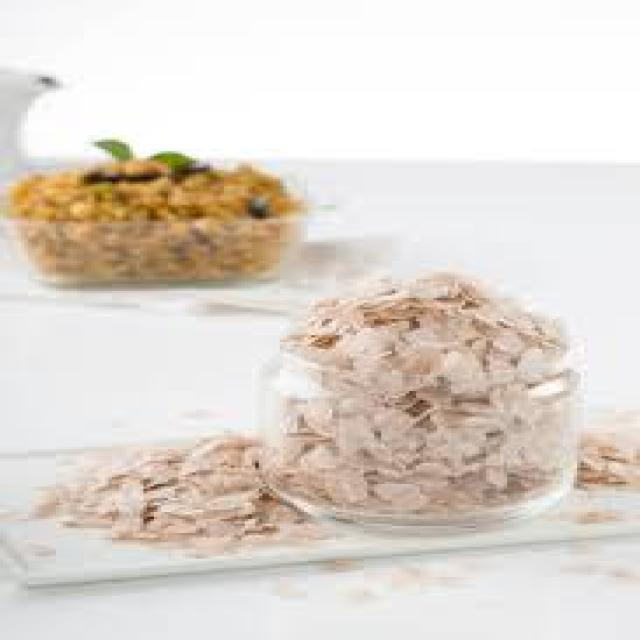BAJI: (273, 270, 567, 514)
